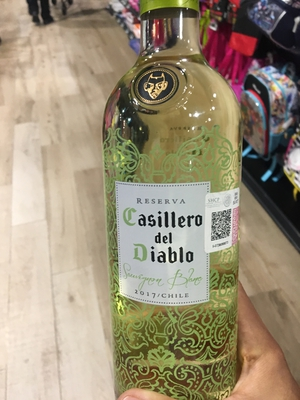casillero del diablo sauvignon blanc: (102, 20, 240, 400)
